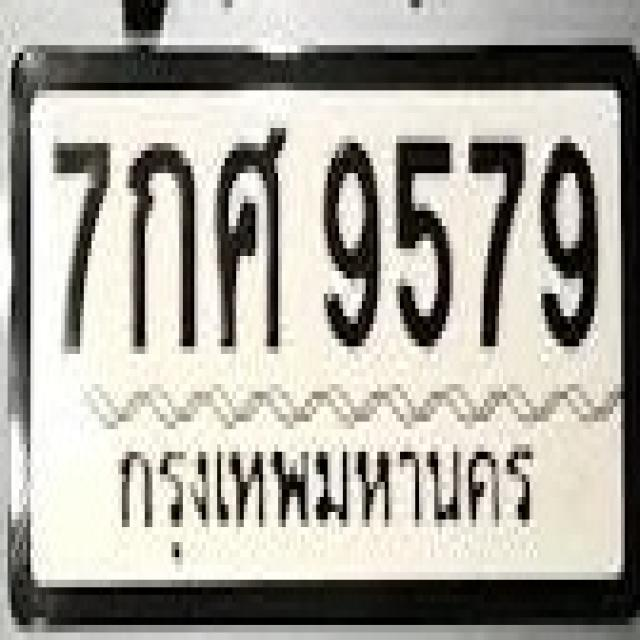license_plate: (6, 40, 640, 623)
